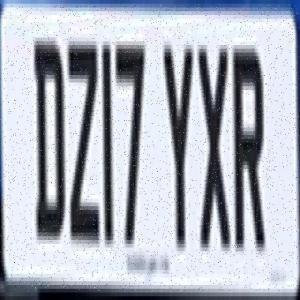Plate: (1, 5, 299, 291)
